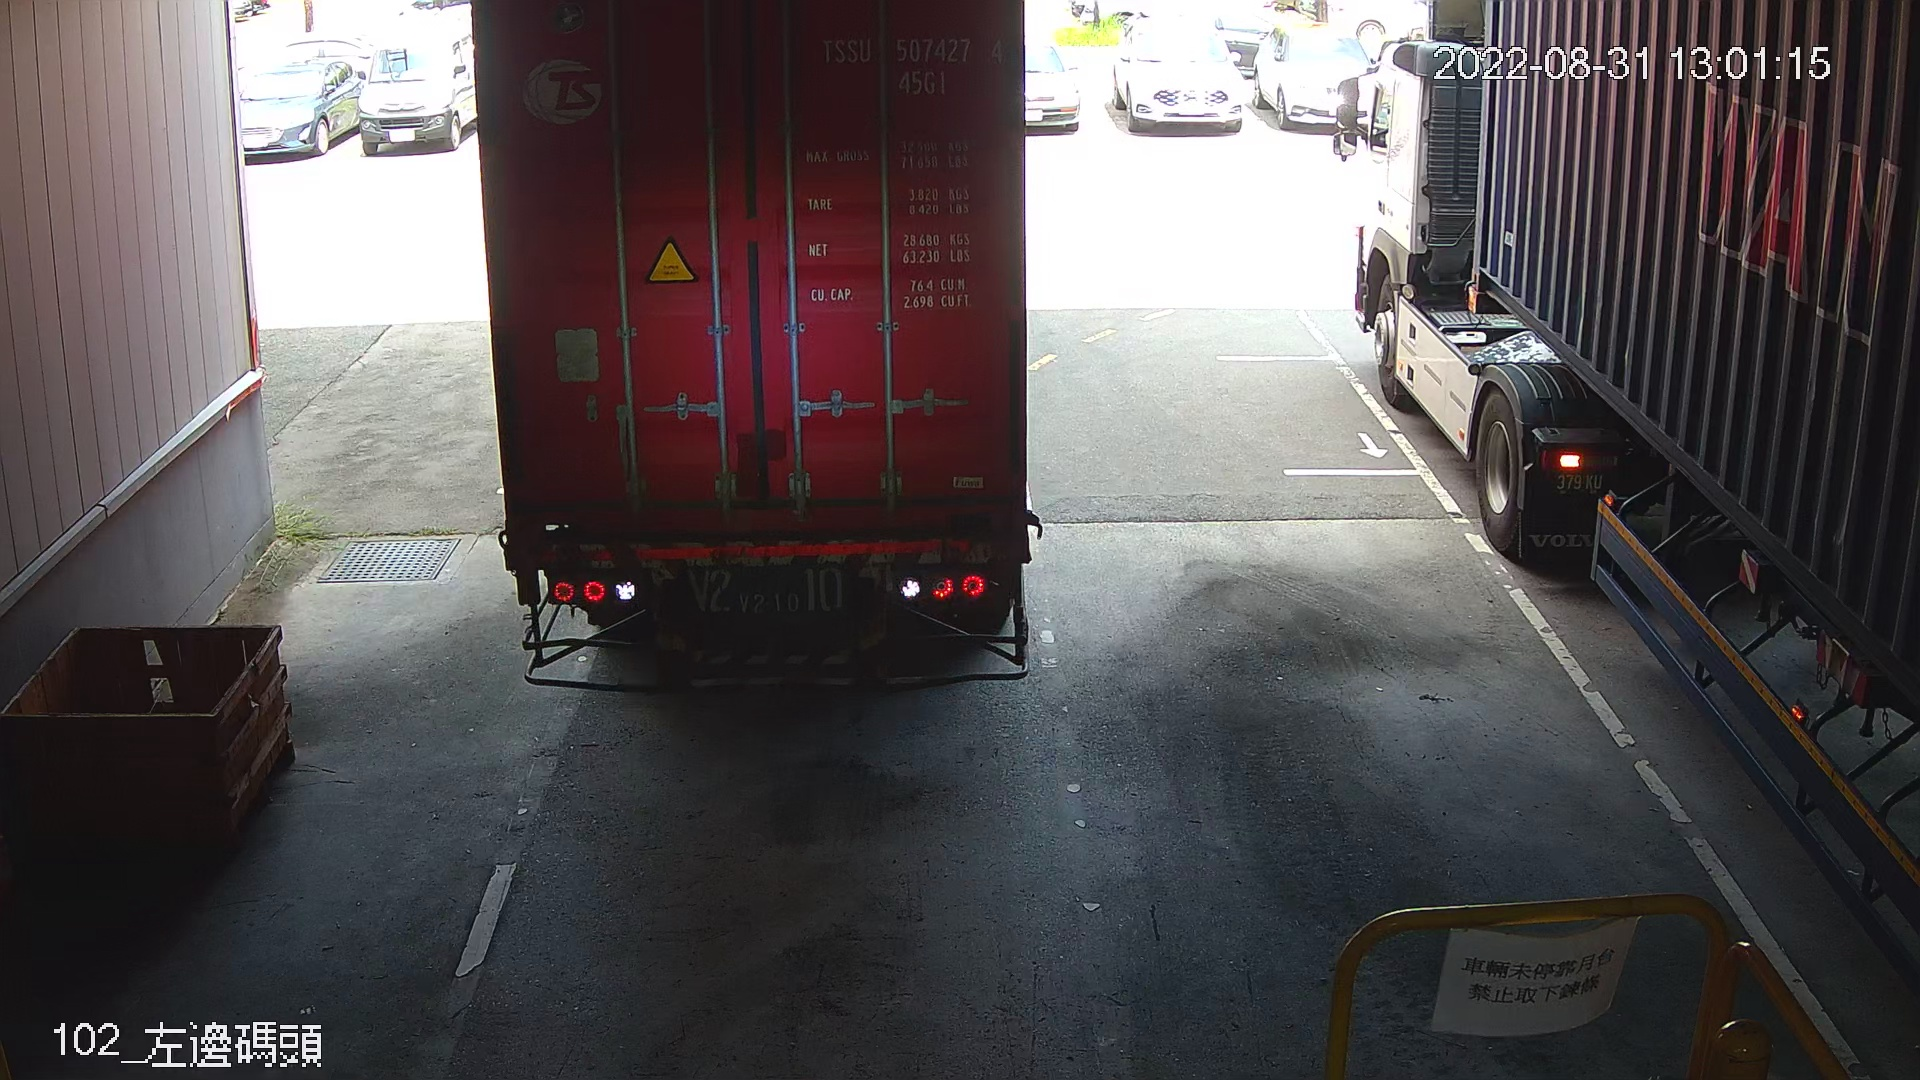container: (812, 26, 1010, 104)
